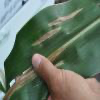Corn leaf blight: (17, 2, 95, 53)
